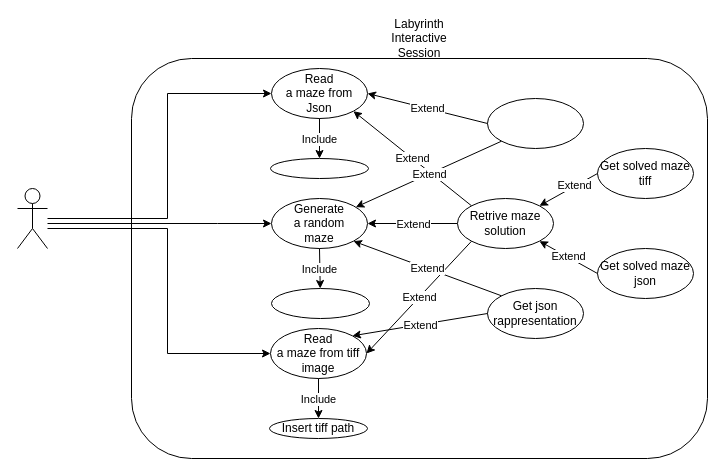
Image size: 725x476. Some labels were removed from this diagram. The centre of each missing label's shape, as x and y in pixels:
Get tiff rappresentation: the point at 535,123
Insert json path: the point at 319,168
Insert maze params: the point at 320,303
User: the point at 32,218
